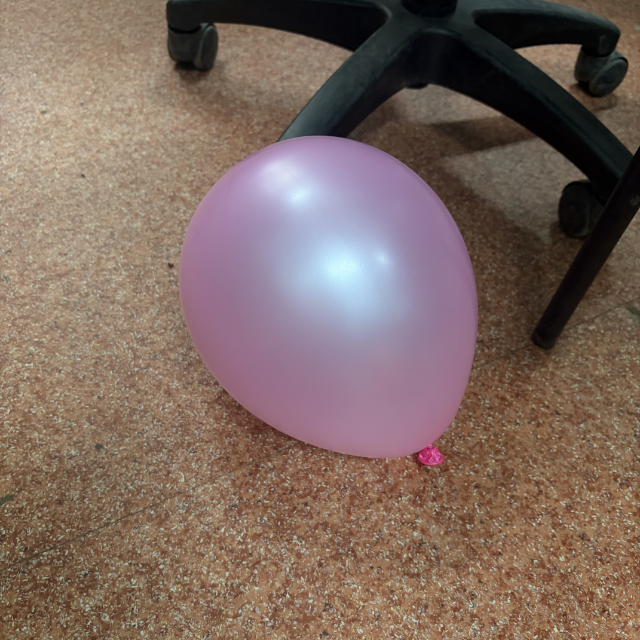balloon: (179, 136, 480, 466)
